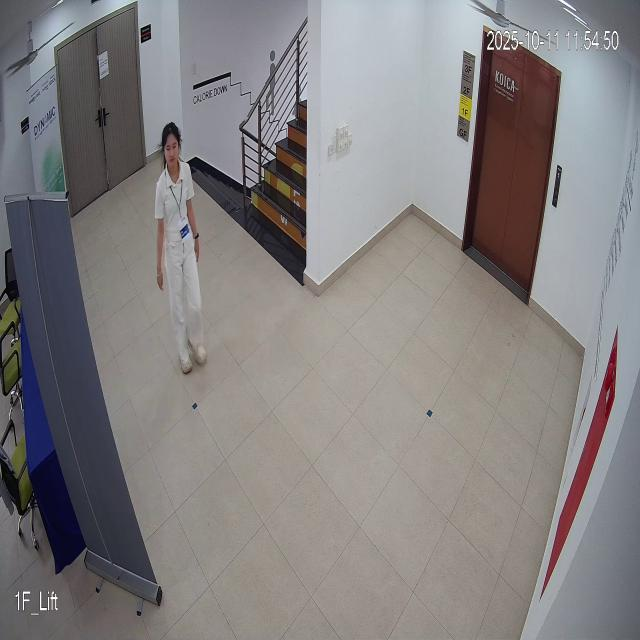face: (160, 118, 185, 176)
